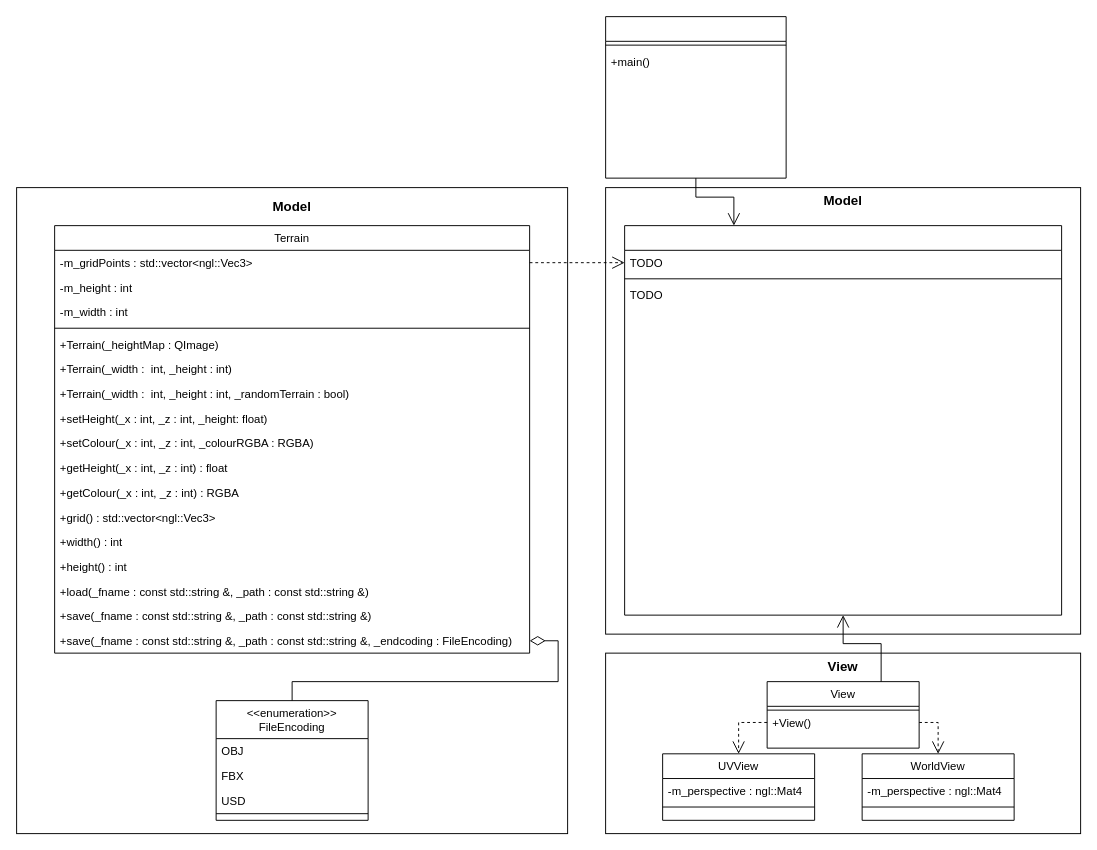
Some shapes in this 1097 by 850 pixel diagram are drawn without their labels. Here are the shapes that lost their labels. From the top down, the box of each, then its label:
(605, 16, 786, 178): TerrainDeformer
(624, 225, 1062, 615): Person
